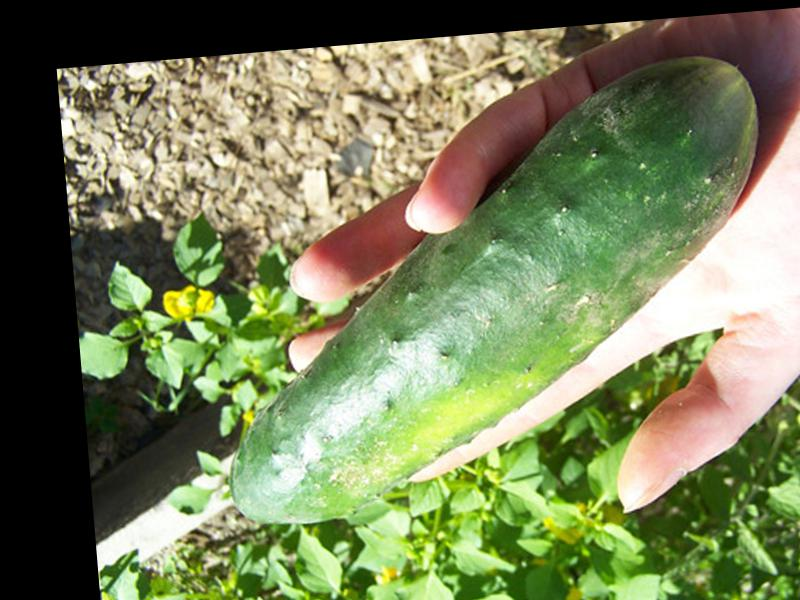Cucumber: (196, 54, 785, 527)
